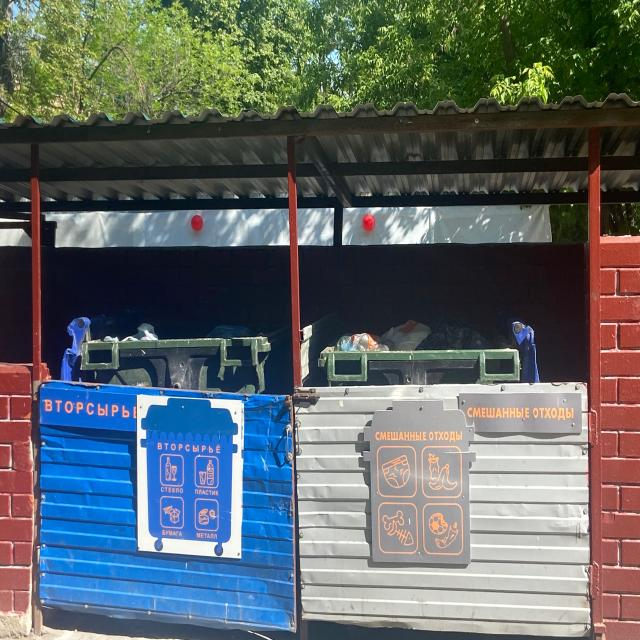bin: (82, 346, 294, 391), (319, 351, 521, 386)
trash: (336, 314, 510, 350), (92, 317, 259, 341)
